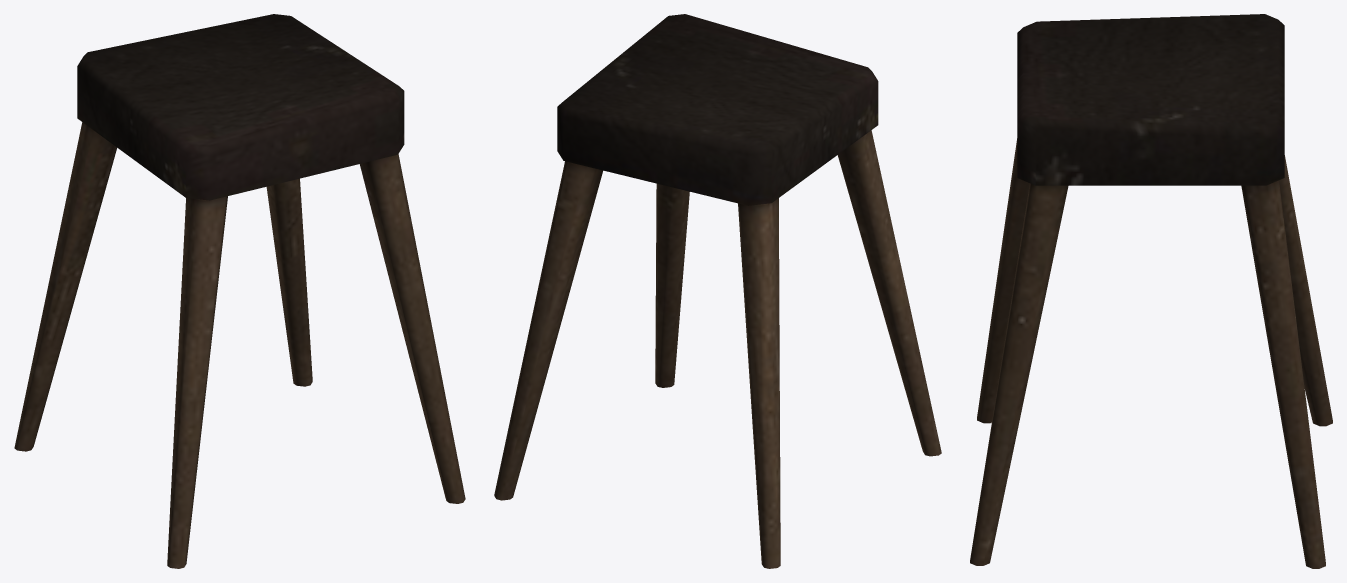
Rendered from WoodenStool.FBX.
The picture shows the model from 3 angles, left to right: view 1: azimuth 30°, elevation 25°; view 2: azimuth 150°, elevation 25°; view 3: azimuth 270°, elevation 25°; orthographic projection. The views are drawn at different scales.
Parts seen in each view (by area): view 1: WoodenStool; view 2: WoodenStool; view 3: WoodenStool.
Part boxes in pixels (box(x1,y1,x2,y2)): WoodenStool: box(14, 14, 465, 568); WoodenStool: box(494, 14, 941, 568); WoodenStool: box(970, 14, 1332, 568).
Size of the model in its own units: 54.06 by 69.73 by 53.82.
